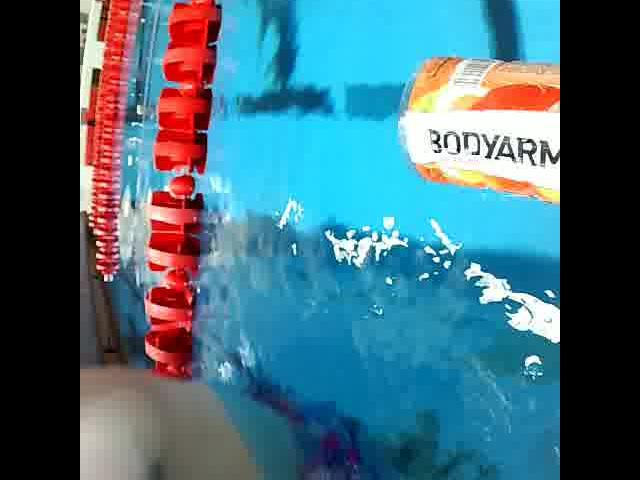Bottle: (392, 50, 560, 206)
